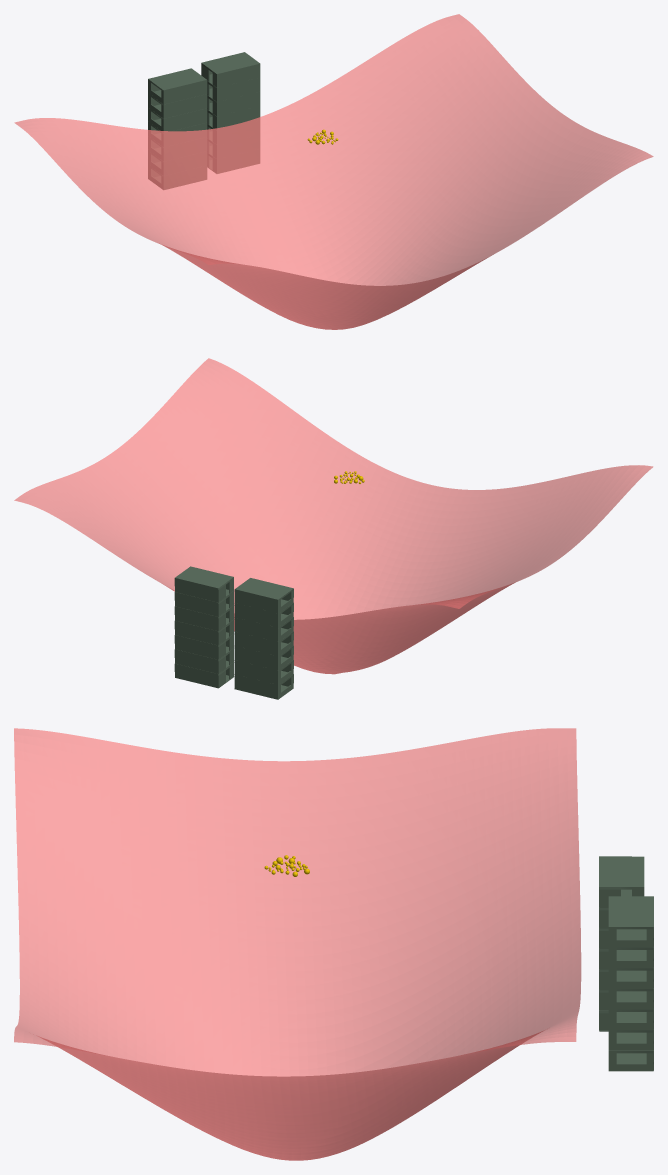
3 renders of one model, top to bottom at view 1: azimuth 30°, elevation 25°; view 2: azimuth 150°, elevation 25°; view 3: azimuth 270°, elevation 25°, orthographic. The views are drawn at different scales.
Visible parts, largest first — view 1: Plane001, Box007, Box008, Box006, Box005, Box004, Box002, Box003, Box001, Box010, Box014, Box011 (+3 smaller); view 2: Plane001, Box007, Box008, Box001, Box003, Box004, Box002, Box005, Box006, Box010, Box012, Box009 (+3 smaller); view 3: Plane001, Box008, Box007, Box010, Box013, Box012, Box009, Box011, Box014.
Boxes of the visible parts, <box> form: Plane001: <box>14,14,653,329</box>; Box007: <box>148,68,207,104</box>; Box008: <box>201,52,260,88</box>; Box006: <box>148,93,207,118</box>; Box005: <box>148,107,207,132</box>; Box004: <box>148,122,207,146</box>; Box002: <box>148,151,206,175</box>; Box003: <box>148,136,206,161</box>; Box001: <box>148,165,206,189</box>; Box010: <box>207,78,260,102</box>; Box014: <box>207,92,260,116</box>; Box011: <box>207,106,260,130</box>; Plane001: <box>14,358,652,674</box>; Box007: <box>234,578,293,613</box>; Box008: <box>174,566,233,602</box>; Box001: <box>234,674,293,699</box>; Box003: <box>234,645,293,670</box>; Box004: <box>234,631,293,656</box>; Box002: <box>234,660,293,685</box>; Box005: <box>234,617,293,642</box>; Box006: <box>234,603,293,628</box>; Box010: <box>174,591,234,616</box>; Box012: <box>174,634,233,659</box>; Box009: <box>174,649,234,673</box>; Plane001: <box>14,728,581,1160</box>; Box008: <box>608,896,653,947</box>; Box007: <box>599,856,644,907</box>; Box010: <box>608,947,653,968</box>; Box013: <box>608,1050,653,1071</box>; Box012: <box>608,1009,653,1030</box>; Box009: <box>608,1029,653,1050</box>; Box011: <box>608,988,653,1009</box>; Box014: <box>608,967,653,988</box>.
Bounding box in the file's own units: 85.38 × 34.95 × 73.56.
